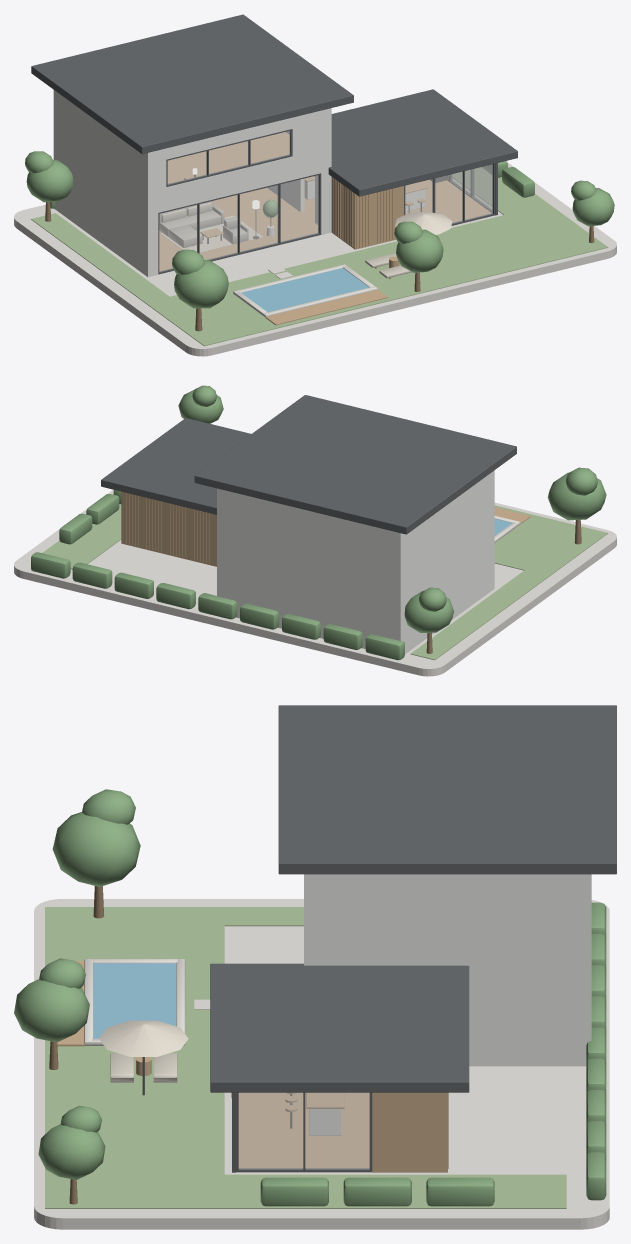
File: house.glb
3 renders of one model, top to bottom at view 1: azimuth 30°, elevation 25°; view 2: azimuth 150°, elevation 25°; view 3: azimuth 270°, elevation 25°, orthographic. The views are drawn at different scales.
Parts seen in each view (by area): view 1: Main_Roof, Lawn_Front, Plinth, Wing_Roof, MainWall_L, Main_FloorGF, Lawn_Left, Pool_Water, Main_FloorUp, MainWall_FUSill, Glass_Slider3, MainWall_FUTop (+34 smaller); view 2: Main_Roof, MainWall_Back, Plinth, MainWall_L, Wing_Roof, Lawn_Front, Lawn_Left, WingWall_Back, Lawn_Right, TreeA_Crown1, TreeC_Crown1, TreeB_Crown1 (+15 smaller); view 3: Main_Roof, Plinth, Lawn_Front, Wing_Roof, MainWall_R2, Wing_Floor, Lawn_Right, Pool_Water, TreeA_Crown1, Glass_WingS1, Glass_WingS2, MainWall_R3 (+16 smaller).
Boxes of the visible parts, box(x1,y1,x2,y2) form: Main_Roof: box(31, 14, 353, 154); Lawn_Front: box(145, 204, 608, 346); Plinth: box(14, 162, 616, 356); Wing_Roof: box(328, 89, 517, 196); MainWall_L: box(53, 90, 151, 276); Main_FloorGF: box(159, 188, 317, 270); Lawn_Left: box(31, 213, 169, 302); Pool_Water: box(241, 268, 369, 312); Main_FloorUp: box(167, 132, 289, 183); MainWall_FUSill: box(146, 147, 331, 204); Glass_Slider3: box(240, 185, 278, 252); MainWall_FUTop: box(146, 108, 331, 163); Main_Roof: box(194, 395, 516, 534); MainWall_Back: box(217, 489, 402, 648); Plinth: box(14, 489, 616, 676); MainWall_L: box(397, 470, 494, 653); Wing_Roof: box(101, 418, 250, 514); Lawn_Front: box(494, 505, 608, 576); Lawn_Left: box(411, 570, 549, 660); WingWall_Back: box(121, 492, 216, 566); Lawn_Right: box(42, 504, 121, 569); TreeA_Crown1: box(547, 472, 606, 520); TreeC_Crown1: box(404, 591, 454, 632); TreeB_Crown1: box(178, 389, 223, 423); Main_Roof: box(278, 705, 616, 874); Plinth: box(34, 899, 609, 1229); Lawn_Front: box(45, 907, 224, 1208); Wing_Roof: box(210, 963, 469, 1092); MainWall_R2: box(386, 874, 591, 1066); Wing_Floor: box(238, 1092, 369, 1168); Lawn_Right: box(224, 1174, 566, 1208); Pool_Water: box(93, 963, 176, 1038); TreeA_Crown1: box(52, 812, 140, 886); Glass_WingS1: box(239, 1093, 302, 1168); Glass_WingS2: box(306, 1093, 369, 1168); MainWall_R3: box(343, 874, 386, 965).
Bounding box in the file's own units: 21.04 × 6.9 × 16.76.
